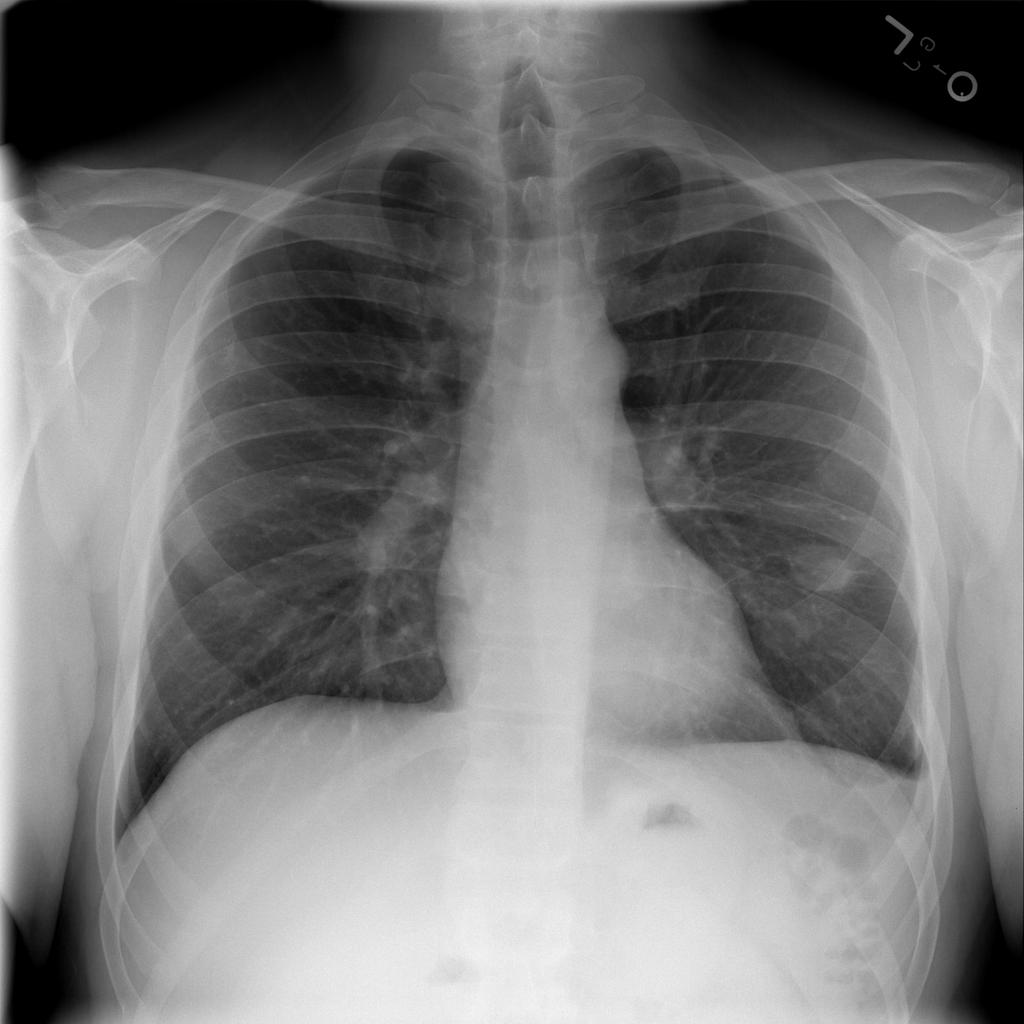nodule: (781, 533, 871, 605)
